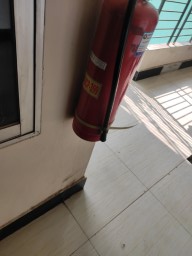fire_extinguisher: (0, 43, 107, 160)
